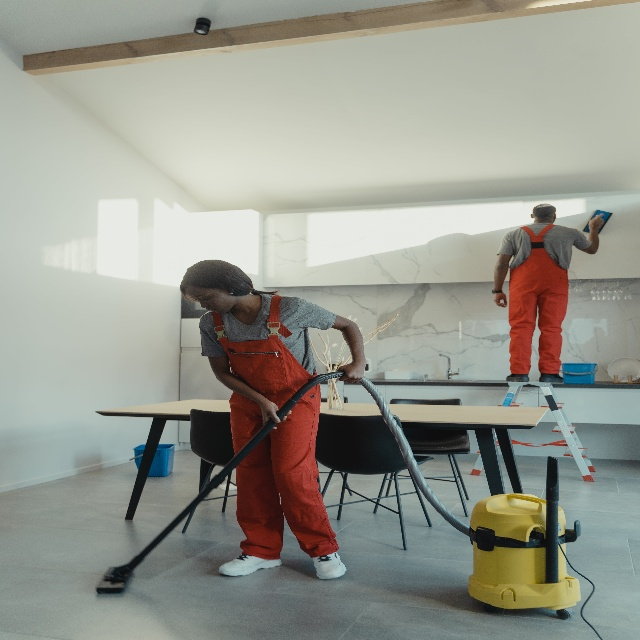Sin_guantes: (261, 398, 292, 430), (336, 361, 366, 384), (588, 212, 604, 232), (494, 292, 507, 308)
